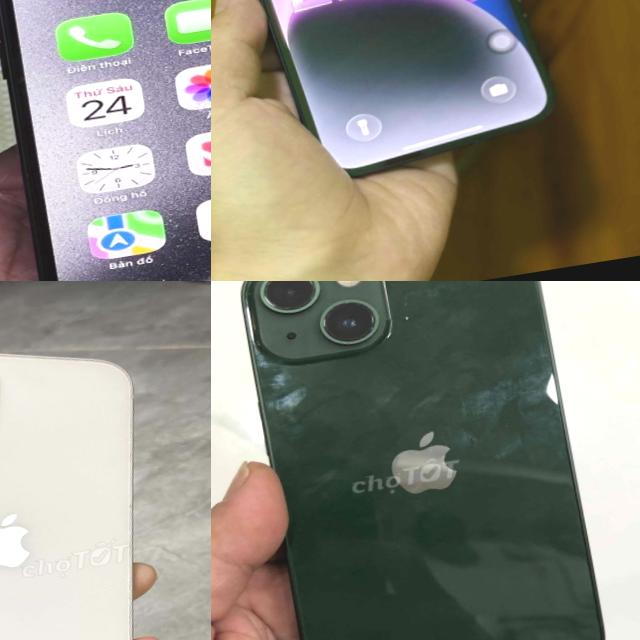gen_12_13: (228, 281, 635, 640), (0, 310, 200, 640)
gen_14: (211, 0, 575, 190)
gen_15: (0, 0, 211, 281)
